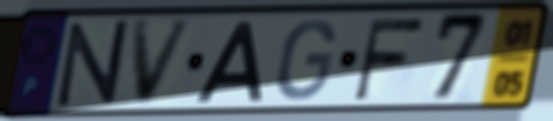7: (431, 10, 491, 106)
A: (192, 19, 266, 105)
F: (350, 14, 429, 103)
G: (273, 17, 339, 103)
N: (54, 17, 131, 111)
V: (130, 16, 198, 110)
